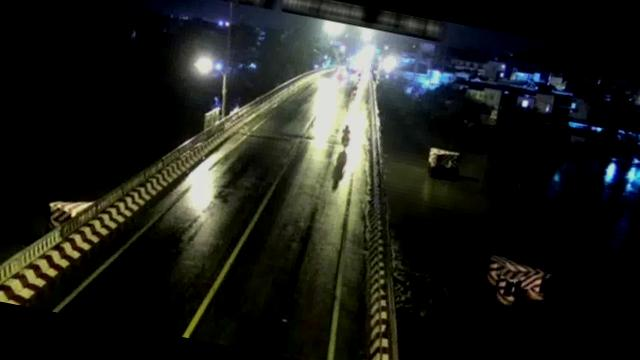Bike: (336, 123, 354, 149)
